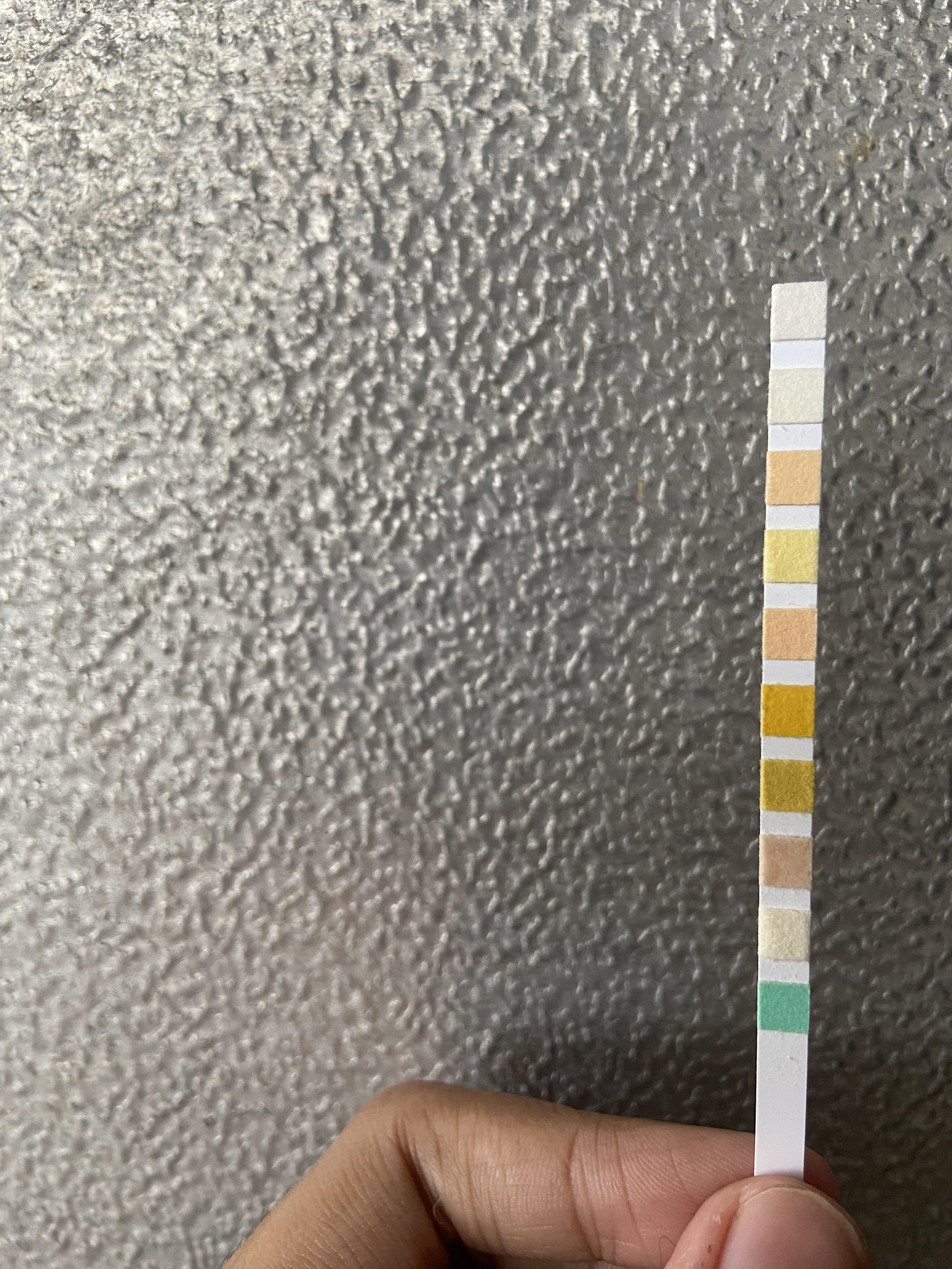Bilirubin: (758, 909, 810, 961)
Blood: (762, 684, 815, 736)
Glucose: (760, 983, 810, 1030)
Ketone: (759, 837, 812, 889)
Leukocytes: (772, 284, 825, 338)
Nitrite: (770, 369, 823, 424)
Protein: (765, 530, 818, 582)
SpGravity: (761, 759, 814, 811)
Urobilinogen: (768, 450, 821, 504)
pH: (763, 608, 816, 660)
strip: (755, 281, 827, 1172)
